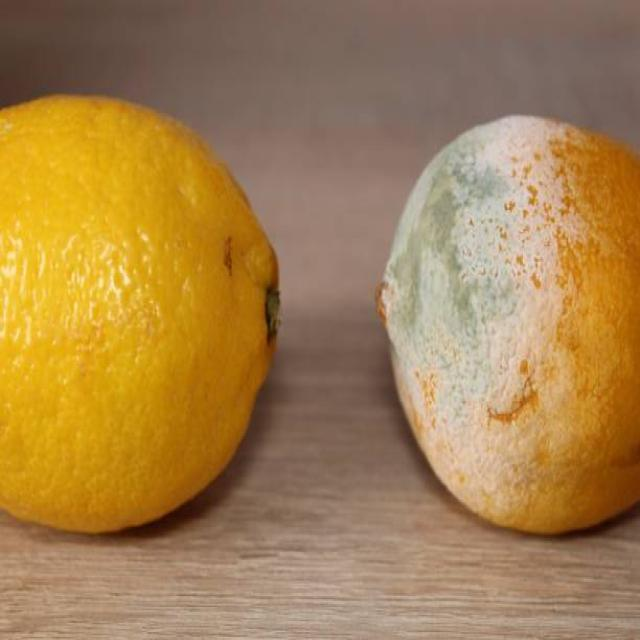Ripe: (0, 89, 282, 535)
Rotten: (375, 110, 640, 537)
